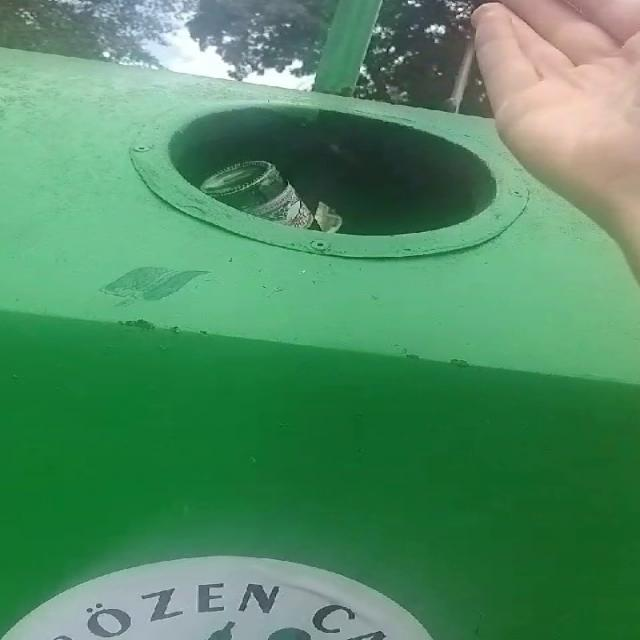glass: (200, 163, 315, 228)
